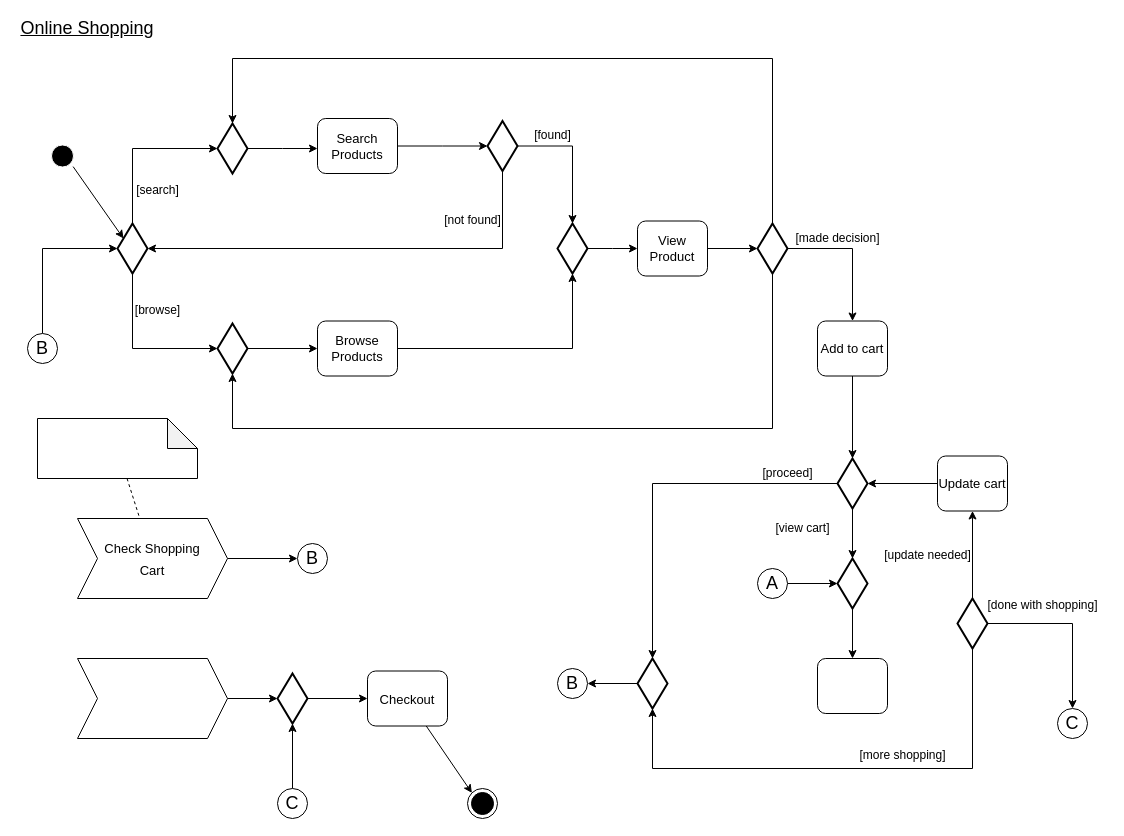
Image size: 1124x836. Some labels were removed from this diagram. Each missing label, with the centre of its shape:
"Proceed to Checkout" belongs at (152,698).
"Shopping cart can be checked at any time" belongs at (117,448).
"View cart" belongs at (852,686).
